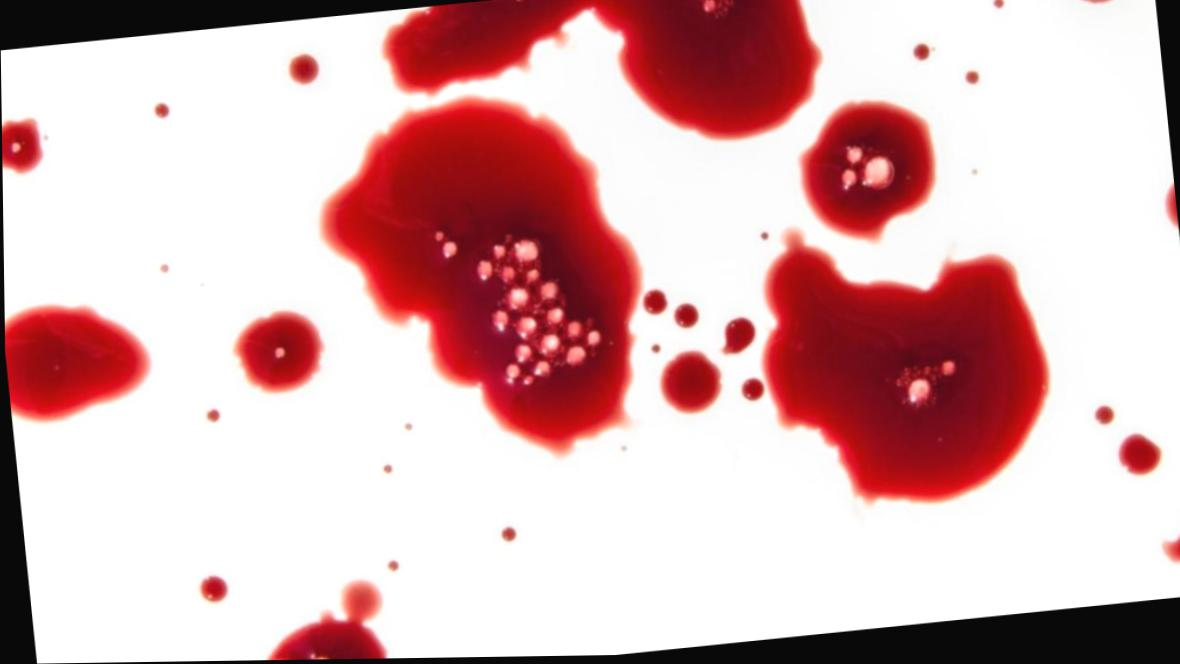Fire: (317, 98, 643, 461), (759, 230, 1048, 508), (380, 0, 823, 145), (797, 103, 935, 248), (4, 305, 150, 424), (264, 581, 385, 661), (231, 312, 323, 395), (657, 353, 721, 418), (1, 119, 43, 175), (1115, 437, 1161, 480), (718, 321, 755, 357), (287, 55, 319, 87), (197, 577, 226, 604), (1163, 185, 1178, 234), (641, 292, 666, 318), (672, 306, 697, 331), (1160, 536, 1180, 567), (739, 381, 762, 404), (1073, 0, 1115, 8), (912, 46, 929, 65), (965, 75, 979, 88)
